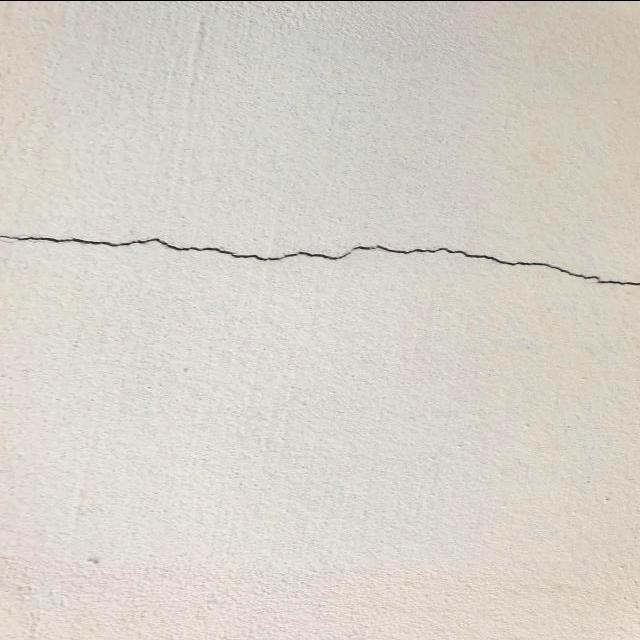SurfaceCrack: (1, 195, 640, 328)
